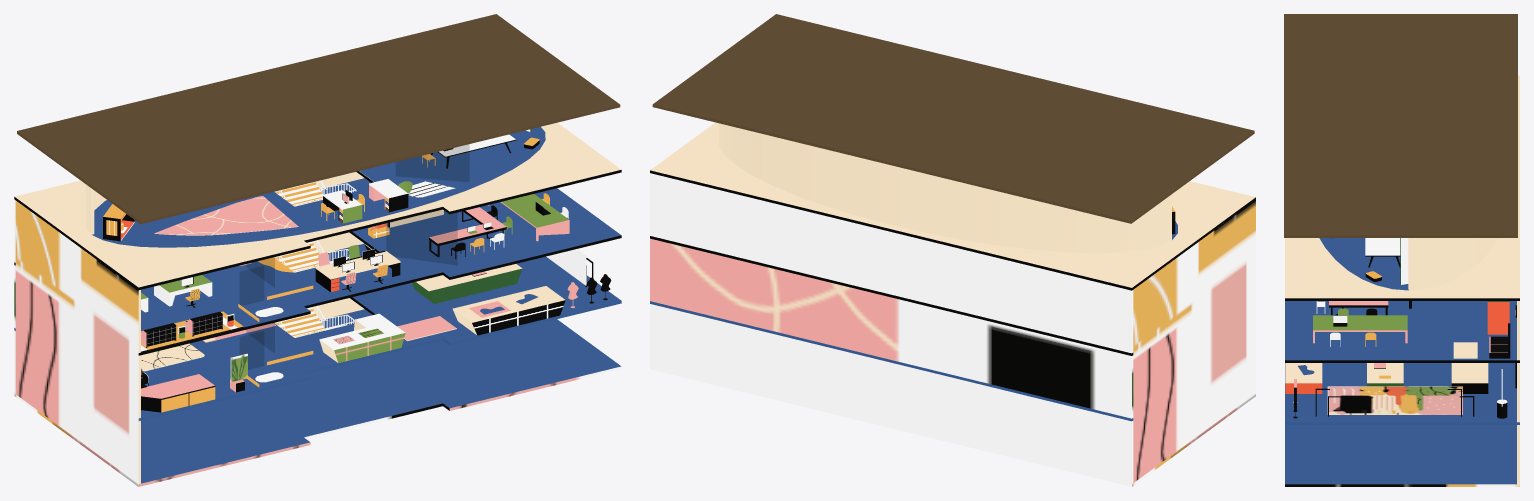
Rendered from 左学校.fbx.
3 views of the same model, side by side, from view 1: azimuth 30°, elevation 25°; view 2: azimuth 150°, elevation 25°; view 3: azimuth 270°, elevation 25° (orthographic). The views are drawn at different scales.
Visible parts, largest first — view 1: 左学校, 立方体_11_2, 挤压_1_3, 立方体_3, 立方体_11, 立方体_4_2, 立方体_21, 立方体_6_3, 立方体_5_2, table_2_2, stairs2_1, 立方体_10_2 (+14 smaller); view 2: 左学校; view 3: 左学校, 立方体_2_2, 立方体_5_2, 立方体_6, 立方体_3, 立方体_4_2, 立方体_4_4, table_13, 立方体_3_3, 立方体_4_3, 立方体_10_2, 扫描_1.
Part boxes in pixels (x1=…): 左学校: x1=14, y1=14, x2=621, y2=486; 立方体_11_2: x1=387, y1=210, x2=456, y2=264; 挤压_1_3: x1=154, y1=196, x2=298, y2=235; 立方体_3: x1=452, y1=286, x2=565, y2=335; 立方体_11: x1=319, y1=313, x2=405, y2=363; 立方体_4_2: x1=412, y1=264, x2=522, y2=303; 立方体_21: x1=141, y1=374, x2=215, y2=412; 立方体_6_3: x1=396, y1=145, x2=468, y2=181; 立方体_5_2: x1=487, y1=194, x2=569, y2=241; table_2_2: x1=315, y1=250, x2=400, y2=291; stairs2_1: x1=274, y1=305, x2=354, y2=337; 立方体_10_2: x1=429, y1=207, x2=506, y2=245; 左学校: x1=650, y1=14, x2=1255, y2=486; 左学校: x1=1284, y1=14, x2=1519, y2=486; 立方体_2_2: x1=1327, y1=386, x2=1462, y2=414; 立方体_5_2: x1=1313, y1=315, x2=1407, y2=343; 立方体_6: x1=1451, y1=363, x2=1488, y2=393; 立方体_3: x1=1285, y1=363, x2=1322, y2=393; 立方体_4_2: x1=1367, y1=363, x2=1403, y2=386; 立方体_4_4: x1=1487, y1=301, x2=1509, y2=334; table_13: x1=1365, y1=238, x2=1400, y2=267; 立方体_3_3: x1=1489, y1=323, x2=1510, y2=358; 立方体_4_3: x1=1453, y1=342, x2=1477, y2=358; 立方体_10_2: x1=1329, y1=301, x2=1388, y2=307; 扫描_1: x1=1400, y1=238, x2=1408, y2=284.
Bounding box in the file's own units: 2703 × 1419 × 1208.
